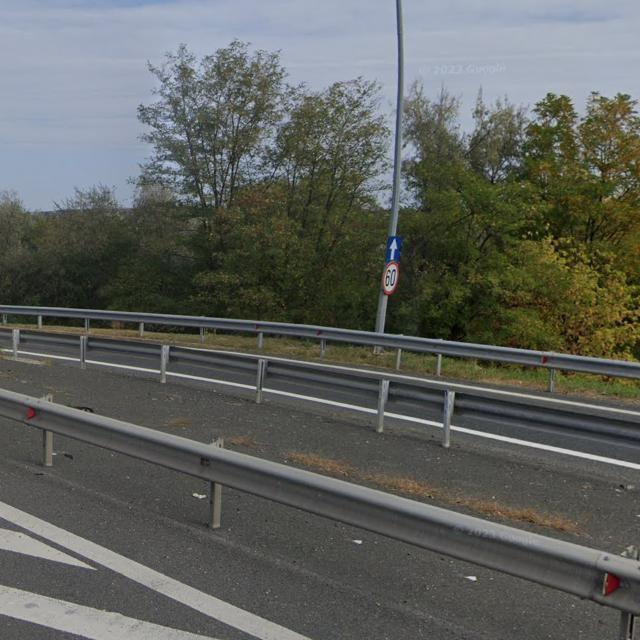forb_speed_over_60: (382, 262, 400, 295)
